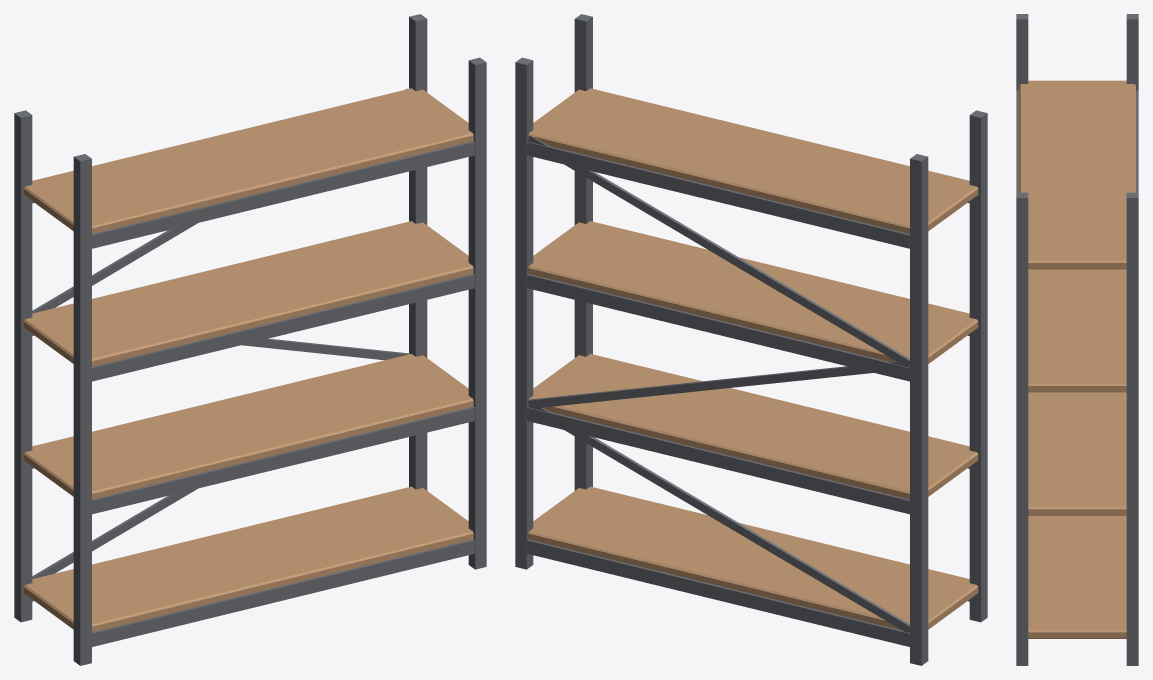
The model's file is Garage_Storage.glb.
3 views of the same model, side by side, from view 1: azimuth 30°, elevation 25°; view 2: azimuth 150°, elevation 25°; view 3: azimuth 270°, elevation 25° (orthographic). The views are drawn at different scales.
Visible parts, largest first — view 1: Garage_Storage; view 2: Garage_Storage; view 3: Garage_Storage.
Boxes of the visible parts, x1=… form: Garage_Storage: x1=14, y1=14, x2=486, y2=665; Garage_Storage: x1=515, y1=14, x2=987, y2=665; Garage_Storage: x1=1016, y1=14, x2=1138, y2=665.
Bounding box in the file's own units: 1.6 × 1.9 × 0.451.
